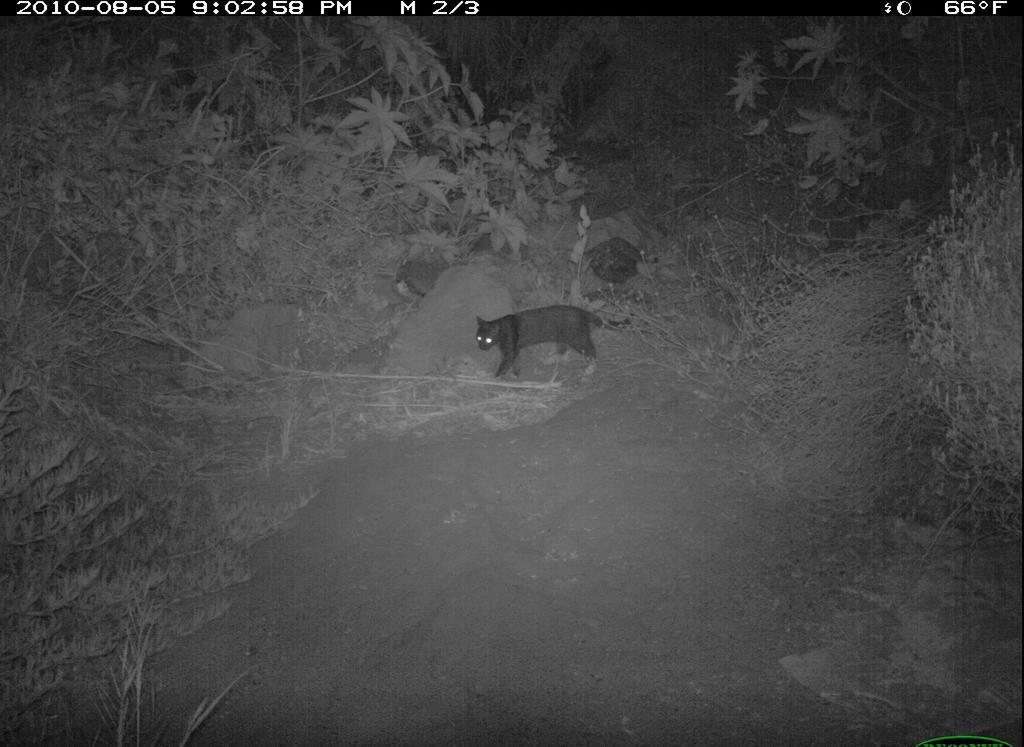cat: (472, 305, 637, 386)
